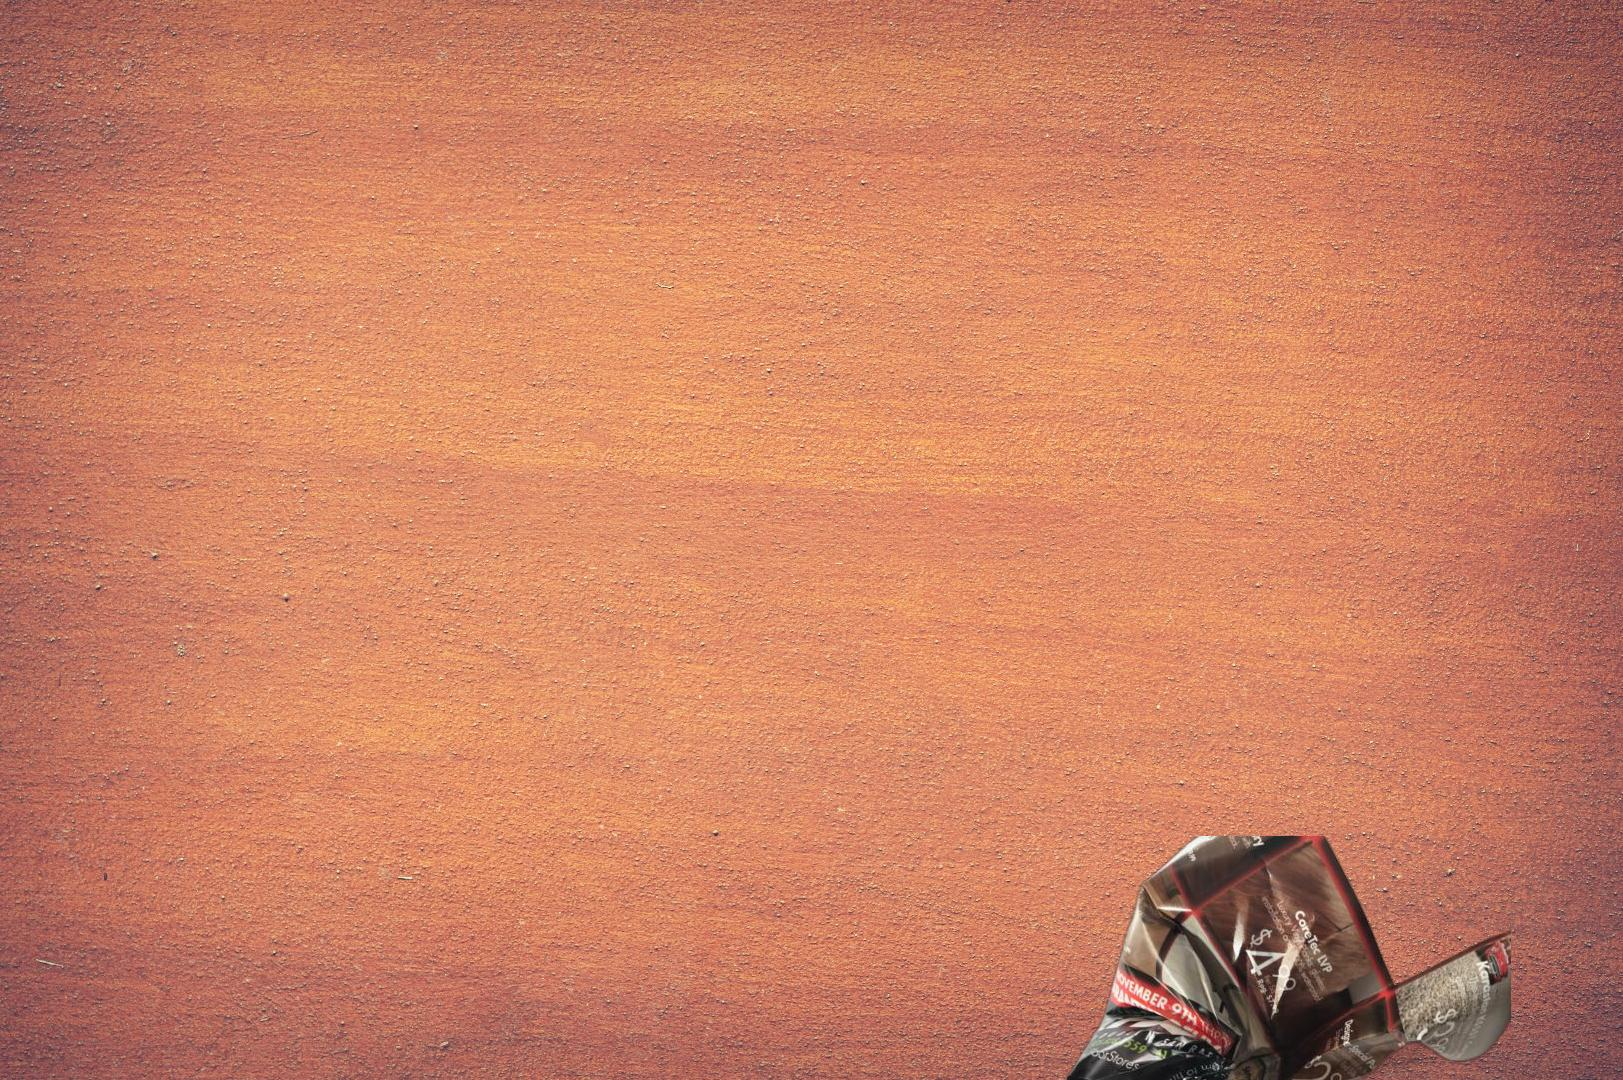metal-cans: (1474, 534, 1623, 1080)
paper: (1062, 837, 1511, 1080)
